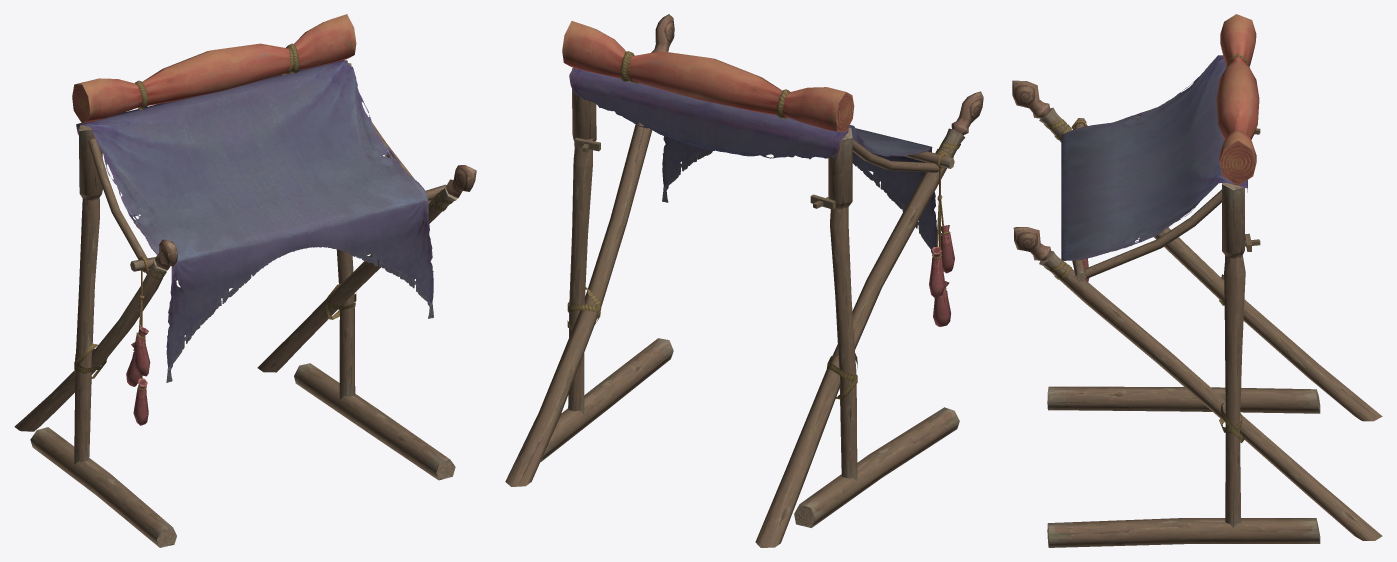
Rendered from Homeworld_Exterior_Xm_Build_Prop_Arhed_04_Lod0.fbx.
The picture shows the model from 3 angles, left to right: view 1: azimuth 30°, elevation 25°; view 2: azimuth 150°, elevation 25°; view 3: azimuth 270°, elevation 25°; orthographic projection. The views are drawn at different scales.
Parts seen in each view (by area): view 1: Area_Xm_Prop_ARC_Pengzi_03_Lod0; view 2: Area_Xm_Prop_ARC_Pengzi_03_Lod0; view 3: Area_Xm_Prop_ARC_Pengzi_03_Lod0.
Boxes of the visible parts, <box> form: Area_Xm_Prop_ARC_Pengzi_03_Lod0: <box>14,14,476,547</box>; Area_Xm_Prop_ARC_Pengzi_03_Lod0: <box>505,14,983,547</box>; Area_Xm_Prop_ARC_Pengzi_03_Lod0: <box>1012,14,1382,547</box>.
Size of the model in its own units: 4.64 by 5.61 by 4.68.
